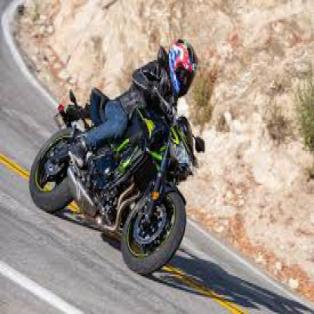Motocicleta: (27, 90, 199, 277)
